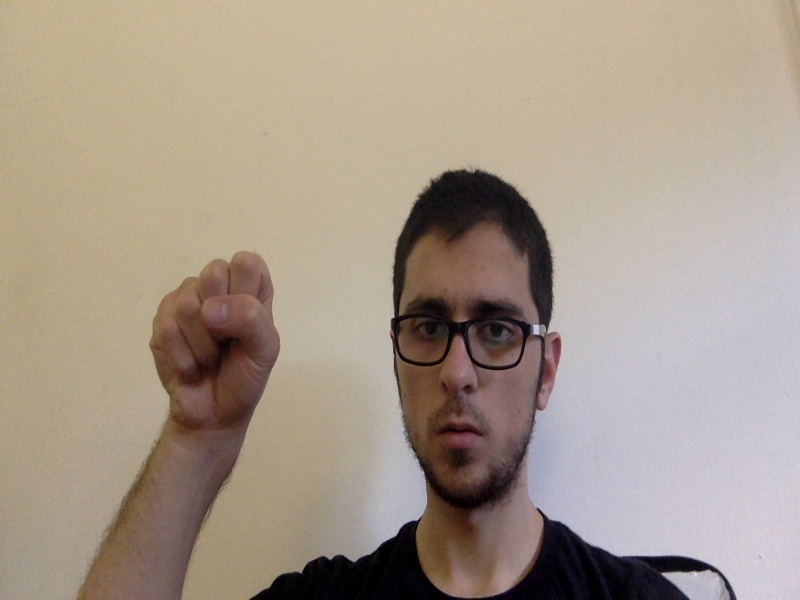0-hand: (150, 252, 280, 427)
